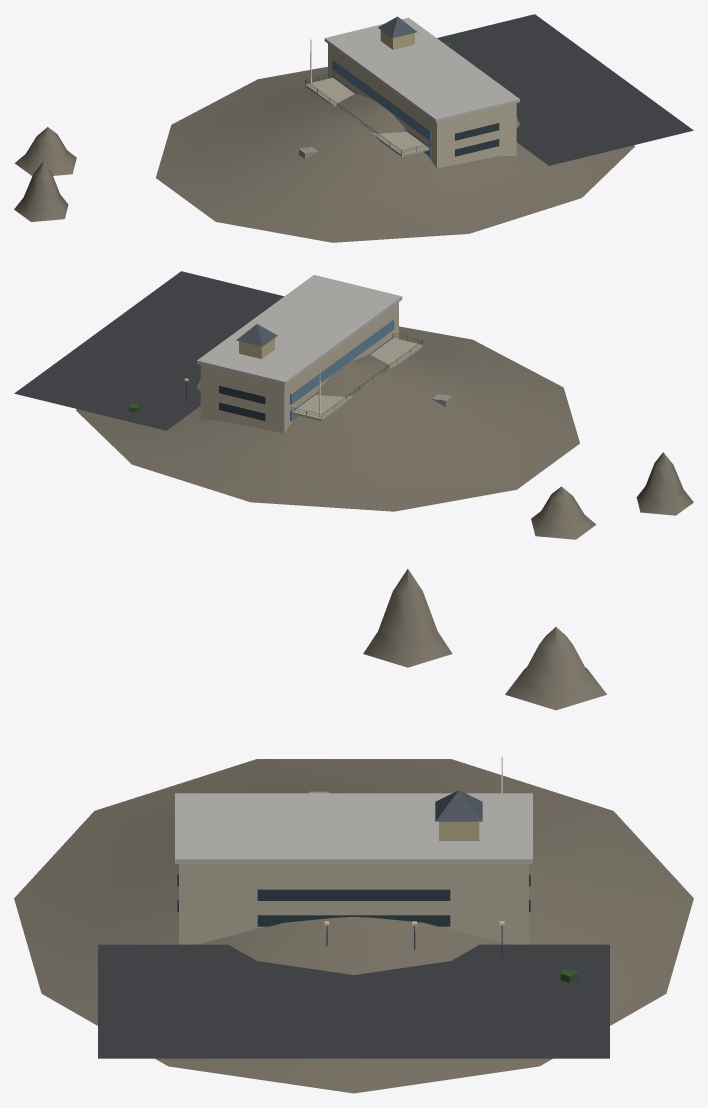
File: mobile.glb
The picture shows the model from 3 angles, top to bottom: view 1: azimuth 30°, elevation 25°; view 2: azimuth 150°, elevation 25°; view 3: azimuth 270°, elevation 25°; orthographic projection. The views are drawn at different scales.
Visible parts, largest first — view 1: lm.cliff-house; view 2: lm.cliff-house; view 3: lm.cliff-house.
Part boxes in pixels (x1,y1,x2,y2): lm.cliff-house: (14, 14, 693, 242); lm.cliff-house: (14, 271, 693, 539); lm.cliff-house: (14, 569, 693, 1093).
Bounding box in the file's own units: 159 × 26.2 × 101.
